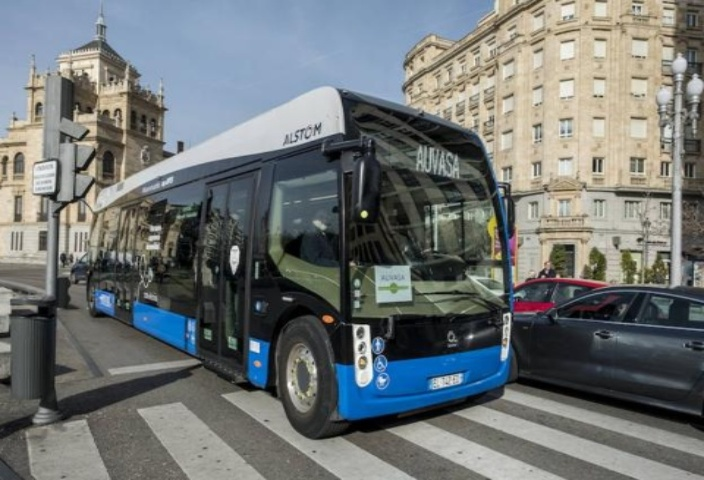bus: (68, 81, 526, 444)
car: (509, 276, 704, 421), (509, 260, 630, 349)
